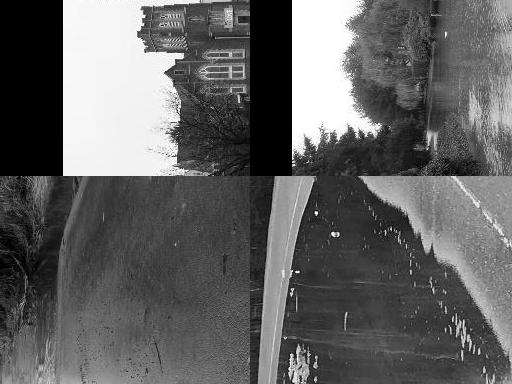road_waterlogging: (295, 232, 432, 321), (283, 330, 496, 384), (25, 176, 79, 384), (440, 0, 494, 135), (421, 60, 437, 137)
